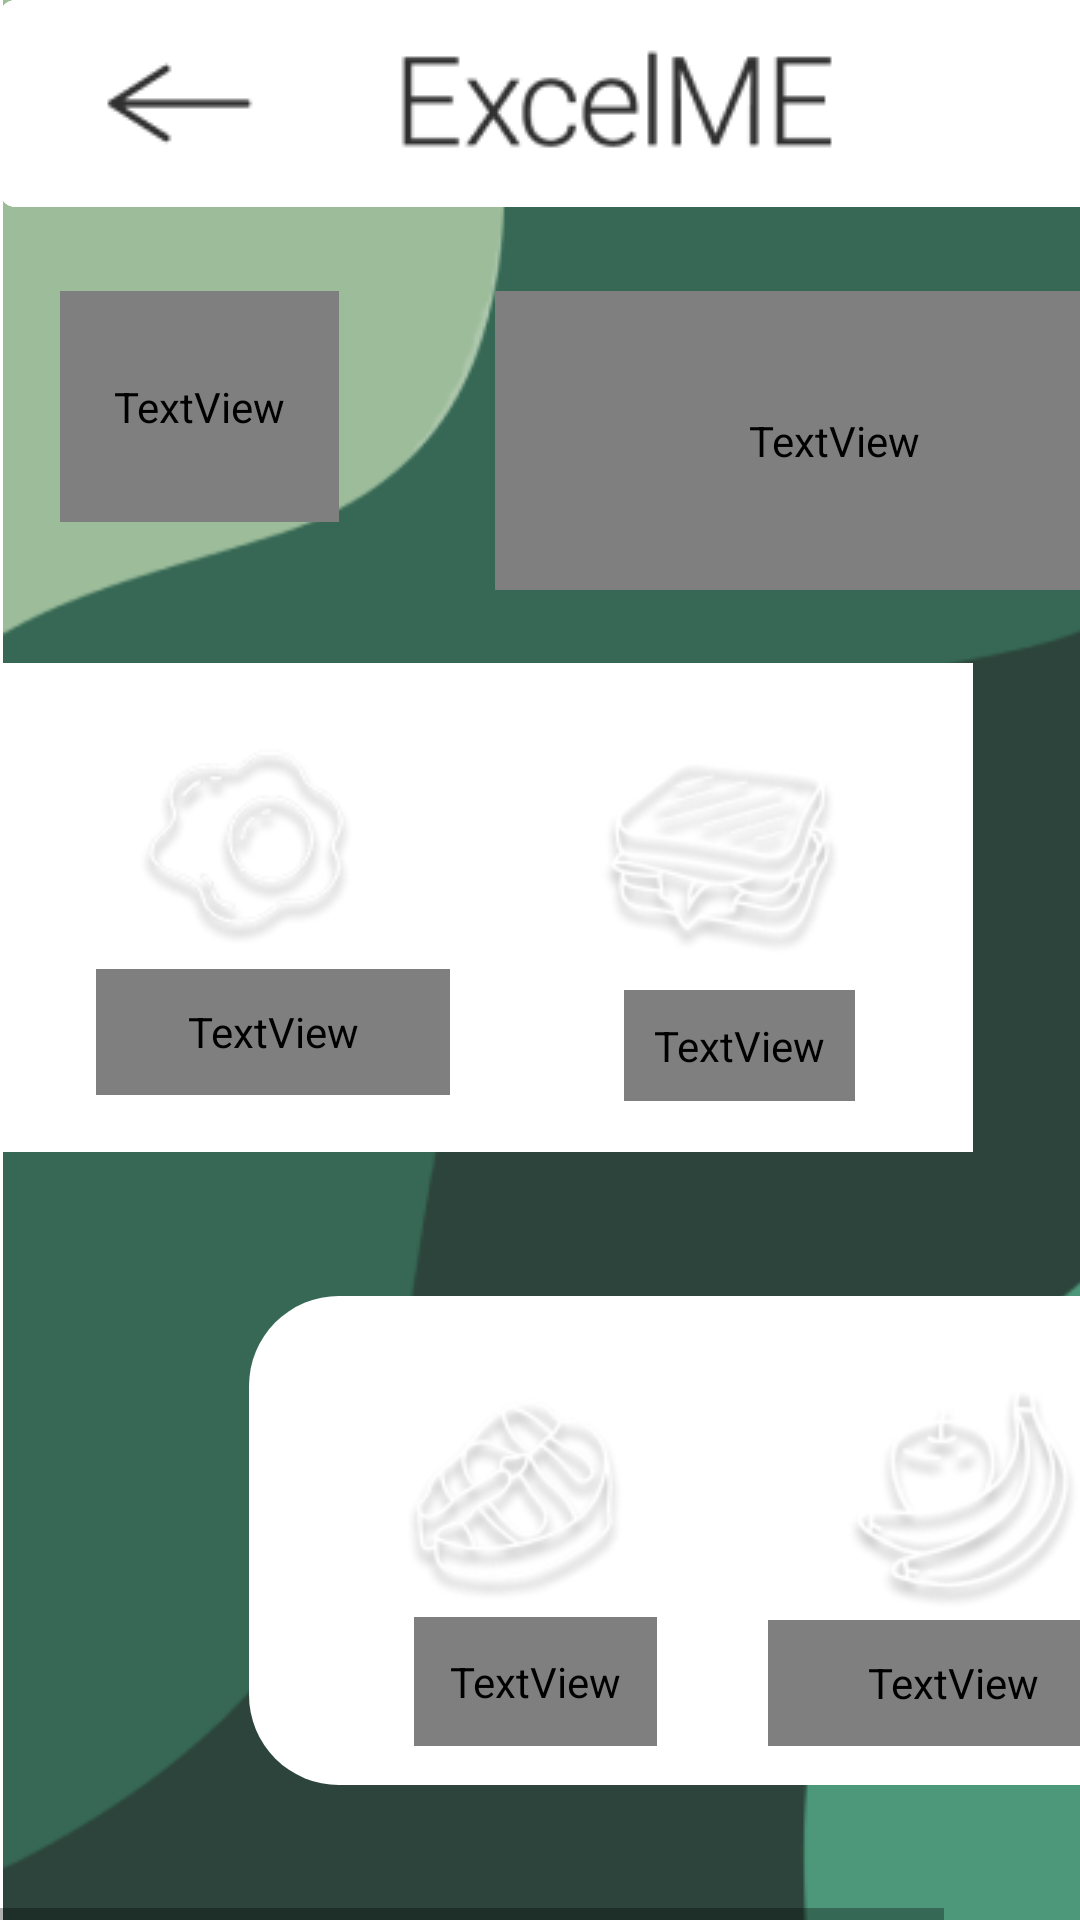

Where icons sit on this 1080 × 1920 app screen, as (x1, y1, x2, y2):
arrow: (107, 63, 253, 143)
egg: (150, 762, 343, 935)
lunch: (612, 785, 827, 938)
salmon: (414, 1413, 654, 1632)
